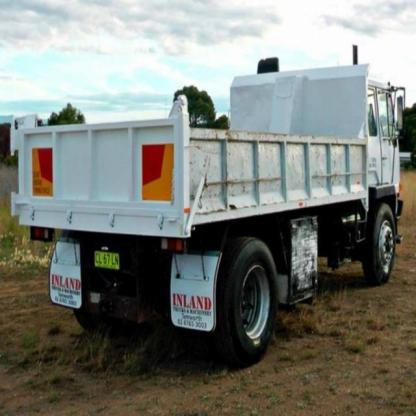truck: (12, 71, 407, 366)
